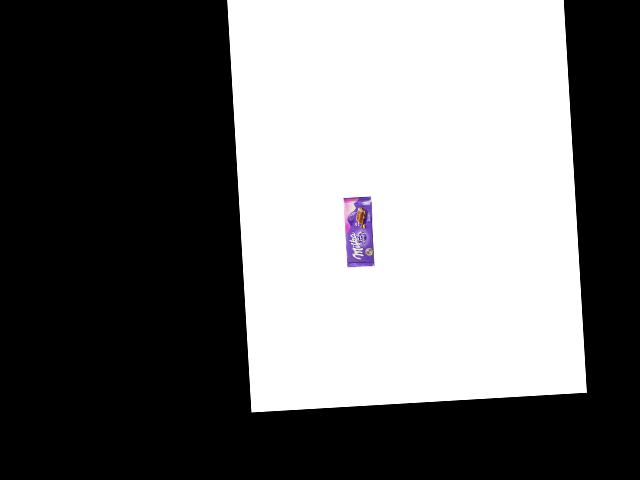chocolate: (342, 196, 376, 267)
